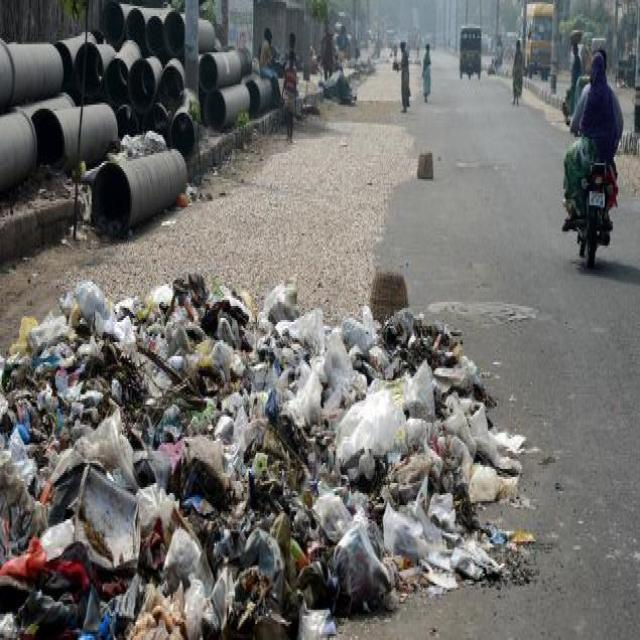garbage: (0, 220, 546, 639)
